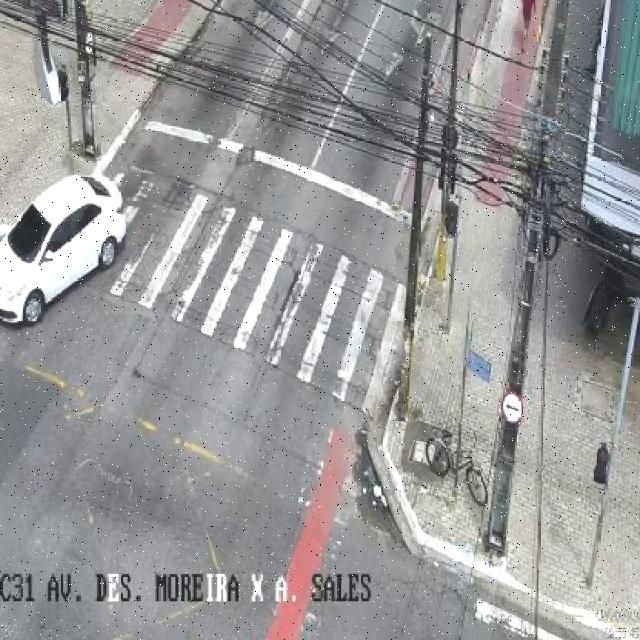Car: (0, 172, 129, 321)
Cycle: (426, 426, 500, 508)
